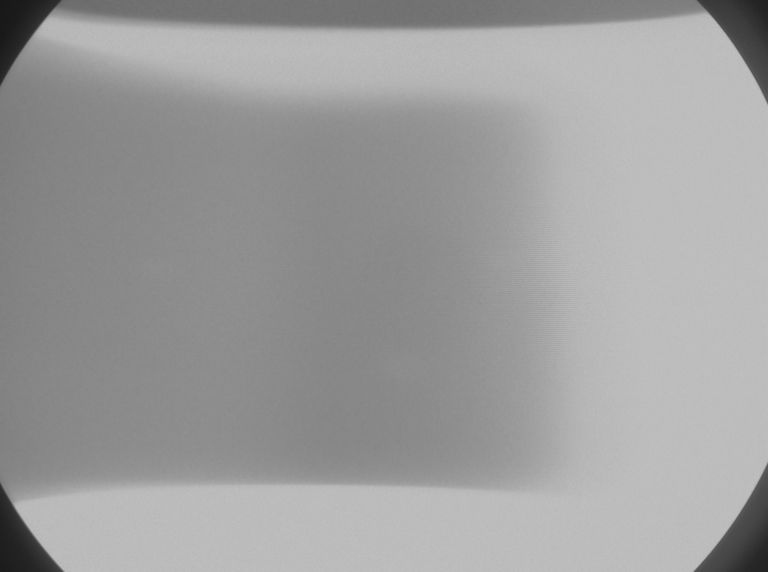defect: (375, 343, 431, 386)
